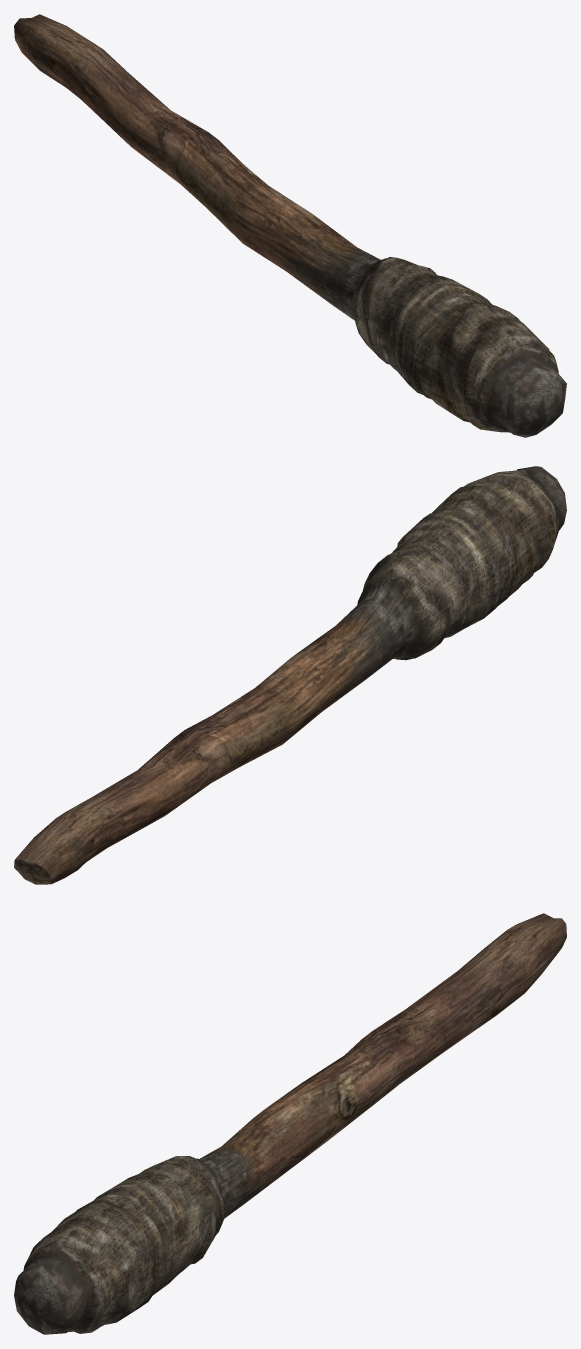
File: torch.fbx
3 renders of one model, top to bottom at view 1: azimuth 30°, elevation 25°; view 2: azimuth 150°, elevation 25°; view 3: azimuth 330°, elevation 25°, orthographic.
Visible parts, largest first — view 1: WP_A_3000.001, WP_A_3000; view 2: WP_A_3000.001, WP_A_3000; view 3: WP_A_3000.001, WP_A_3000.
Part boxes in pixels (x1,y1,x2,y2): WP_A_3000.001: [14, 14, 566, 437]; WP_A_3000: [355, 257, 558, 432]; WP_A_3000.001: [14, 466, 566, 884]; WP_A_3000: [357, 469, 558, 660]; WP_A_3000.001: [14, 913, 566, 1334]; WP_A_3000: [23, 1156, 224, 1333].
Bounding box in the file's own units: 7.94 × 9.15 × 74.15.
Materials: 2 (2 with a texture image).
